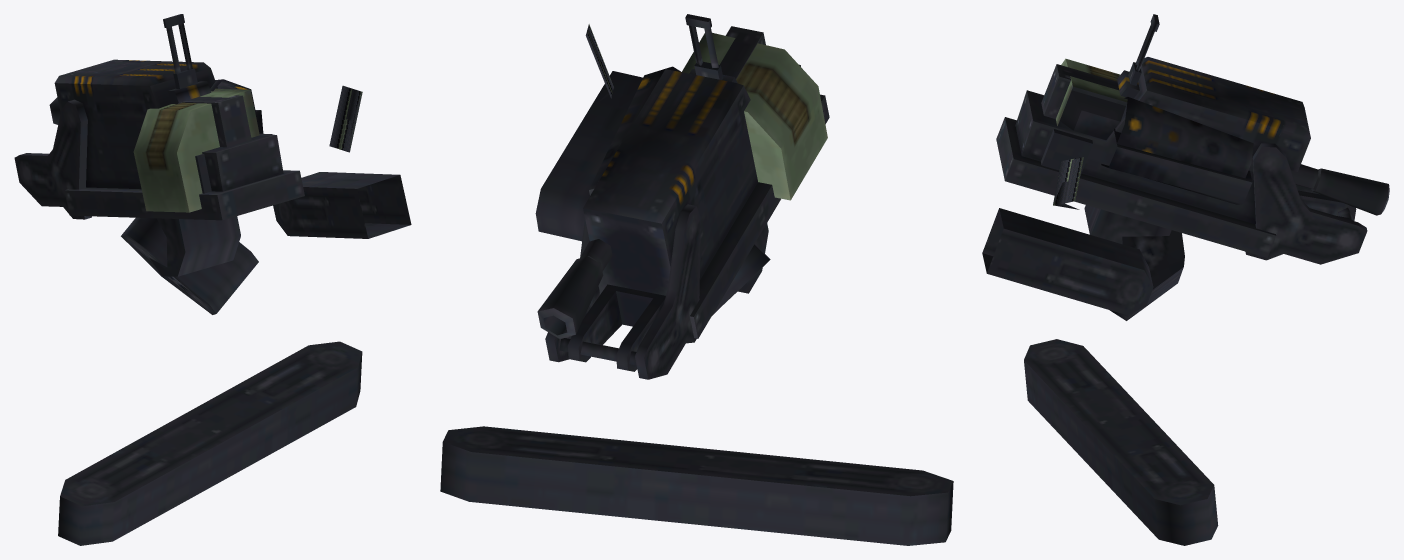
File: robotlarge_gun.glb
The picture shows the model from 3 angles, left to right: view 1: azimuth 30°, elevation 25°; view 2: azimuth 150°, elevation 25°; view 3: azimuth 270°, elevation 25°; orthographic projection. The views are drawn at different scales.
Parts seen in each view (by area): view 1: weapons/robotlarge_gun_4, weapons/robotlarge_gun_0, weapons/robotlarge_gun_5, weapons/robotlarge_gun_2, weapons/robotlarge_gun_1, weapons/robotlarge_gun_3, weapons/robotlarge_gun_6; view 2: weapons/robotlarge_gun_4, weapons/robotlarge_gun_0, weapons/robotlarge_gun_5, weapons/robotlarge_gun_2, weapons/robotlarge_gun_8, weapons/robotlarge_gun_7, weapons/robotlarge_gun_1; view 3: weapons/robotlarge_gun_4, weapons/robotlarge_gun_0, weapons/robotlarge_gun_2, weapons/robotlarge_gun_7, weapons/robotlarge_gun_8, weapons/robotlarge_gun_1, weapons/robotlarge_gun_3, weapons/robotlarge_gun_5, weapons/robotlarge_gun_6.
Boxes of the visible parts, box(x1,y1,x2,y2) form: weapons/robotlarge_gun_4: box(14, 14, 304, 220); weapons/robotlarge_gun_0: box(58, 341, 362, 545); weapons/robotlarge_gun_5: box(133, 88, 259, 212); weapons/robotlarge_gun_2: box(273, 172, 411, 238); weapons/robotlarge_gun_1: box(121, 217, 258, 314); weapons/robotlarge_gun_3: box(149, 216, 240, 276); weapons/robotlarge_gun_6: box(329, 85, 362, 152); weapons/robotlarge_gun_4: box(545, 14, 829, 379); weapons/robotlarge_gun_0: box(440, 426, 953, 545); weapons/robotlarge_gun_5: box(682, 32, 827, 200); weapons/robotlarge_gun_2: box(535, 71, 642, 241); weapons/robotlarge_gun_8: box(537, 181, 612, 339); weapons/robotlarge_gun_7: box(589, 66, 681, 195); weapons/robotlarge_gun_1: box(712, 244, 770, 315); weapons/robotlarge_gun_4: box(996, 14, 1367, 264); weapons/robotlarge_gun_0: box(1024, 339, 1218, 545); weapons/robotlarge_gun_2: box(982, 208, 1153, 315); weapons/robotlarge_gun_7: box(1101, 97, 1253, 204); weapons/robotlarge_gun_8: box(1093, 125, 1389, 215); weapons/robotlarge_gun_1: box(1110, 230, 1184, 320); weapons/robotlarge_gun_3: box(1084, 205, 1171, 243); weapons/robotlarge_gun_5: box(1056, 58, 1127, 125); weapons/robotlarge_gun_6: box(1053, 157, 1083, 209).
Bounding box in the file's own units: 1.71 × 2 × 1.67.
9 materials, 9 textured.
